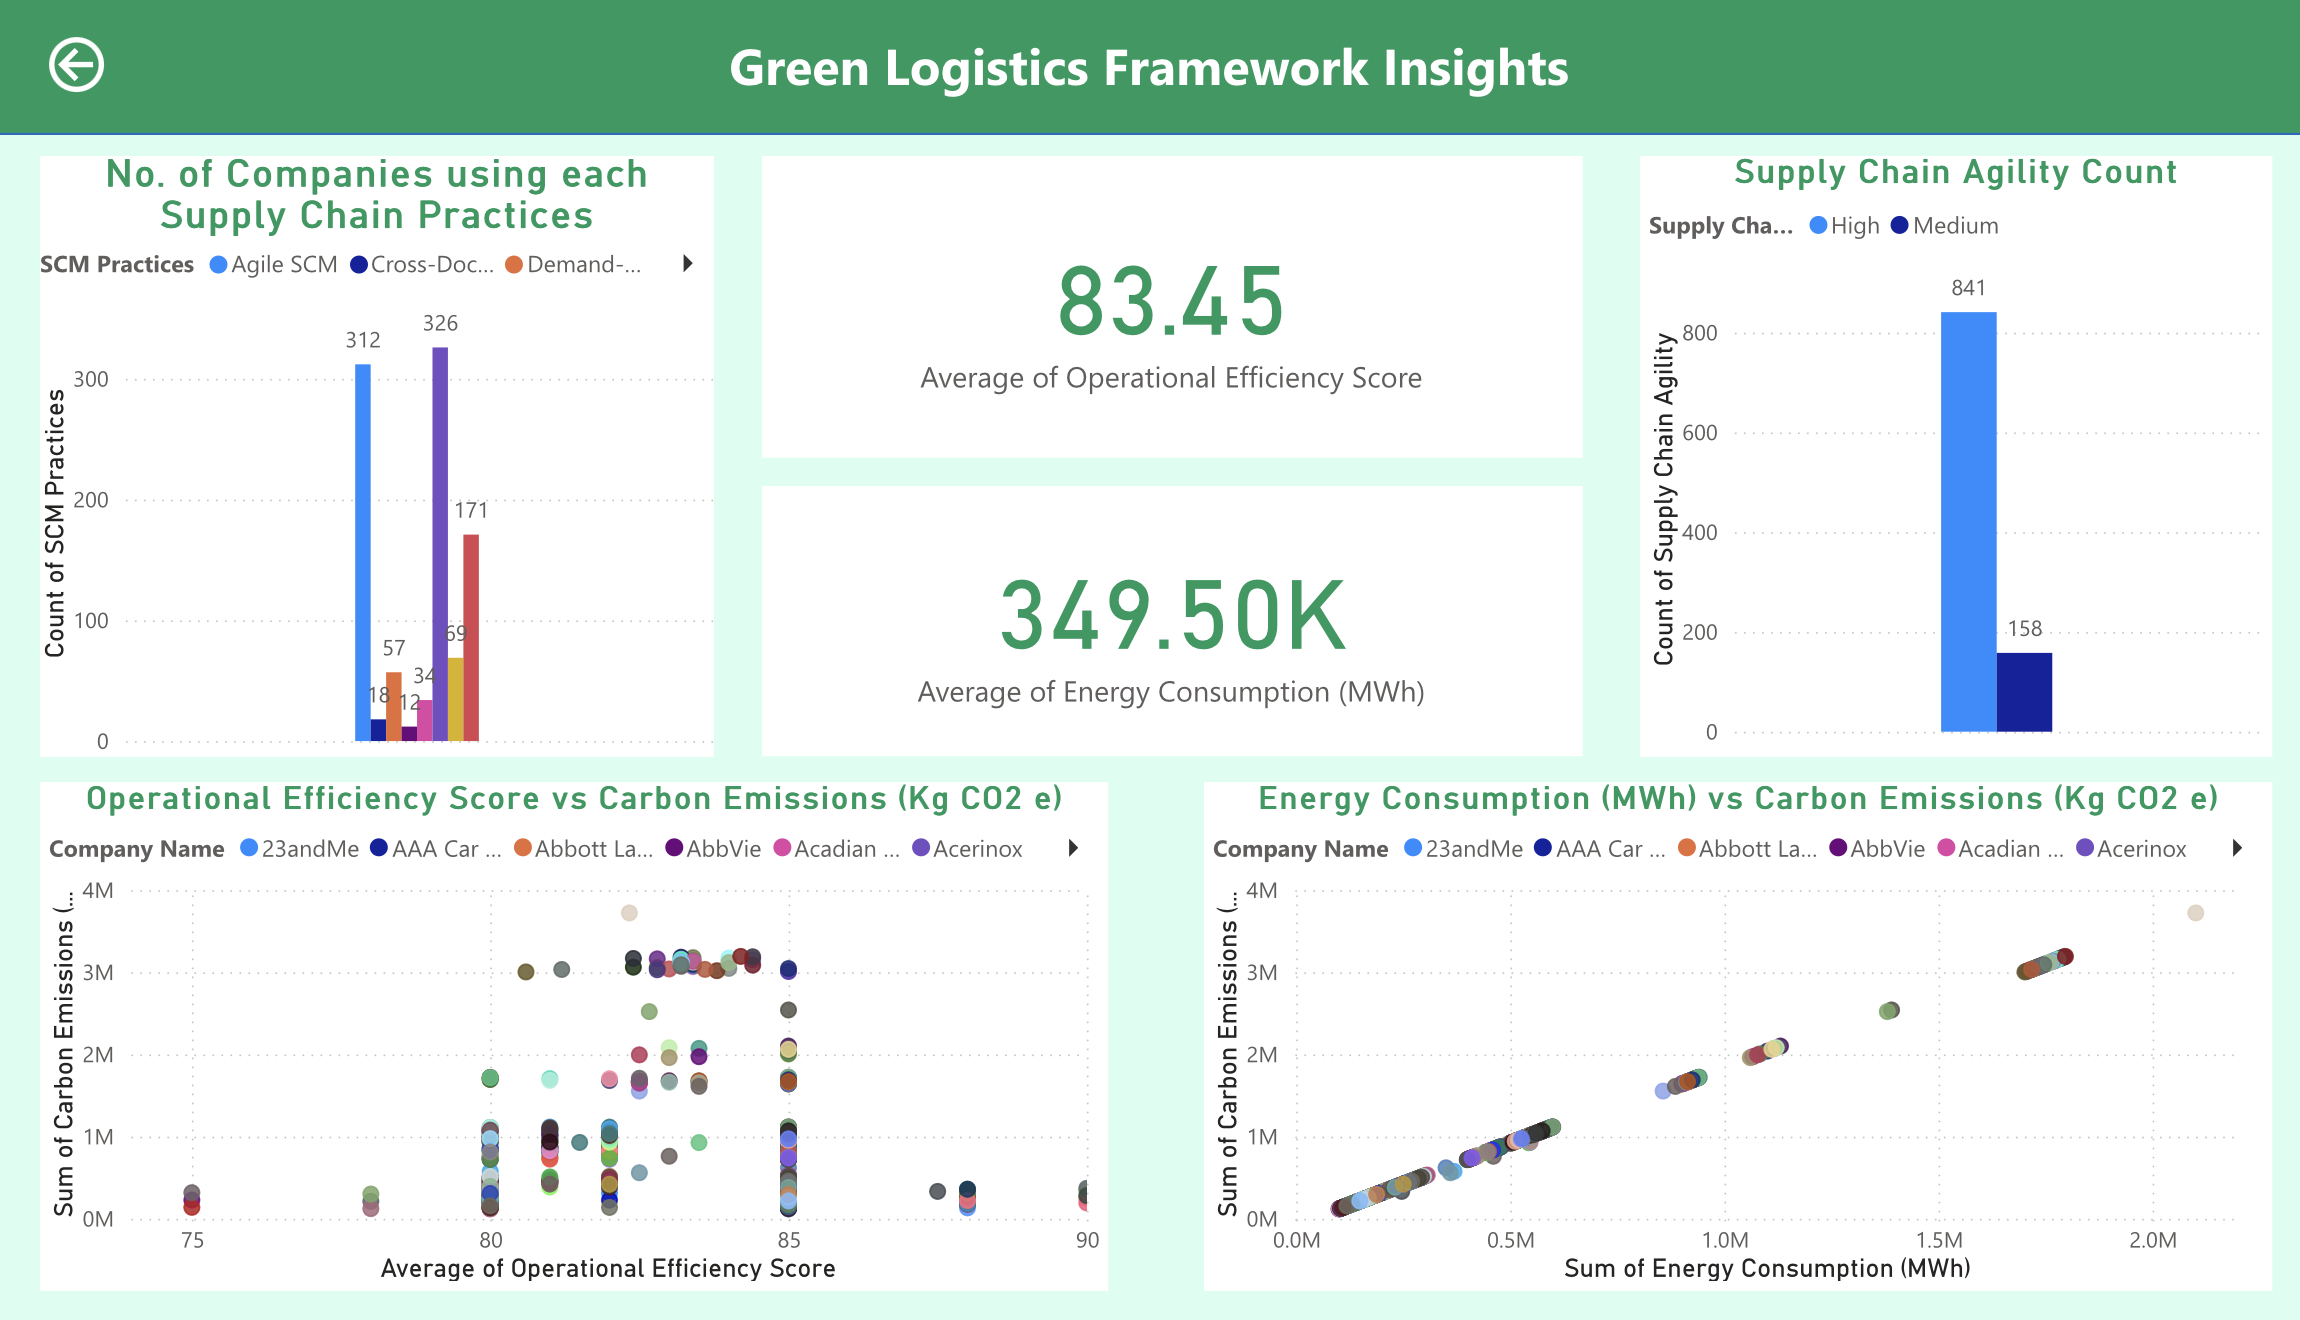

What the dashboard file says about the page in this screenshot:
{"tool":"powerbi","page":{"name":"Green Logistics Insights","canvas":[1280,720],"ordinal":2},"visuals":[{"type":"shape","box":[0,0,1280.2,78.1],"z":0},{"type":"clusteredColumnChart","title":"No. of Companies using each Supply Chain Practices","fields":{"Y":["Sheet1.SCM Practices"],"Series":["Sheet1.SCM Practices"]},"box":[24,90,374.2,333.6],"z":1000},{"type":"scatterChart","title":"Operational Efficiency Score vs Carbon Emissions (Kg CO2 e)","fields":{"X":["Sheet1.Operational Efficiency Score"],"Y":["Sheet1.Carbon Emissions (kg CO2e)"],"Series":["Sheet1.Company Name"]},"box":[24.7,437.7,593.1,282.4],"z":2000},{"type":"scatterChart","title":"Energy Consumption (MWh) vs Carbon Emissions (Kg CO2 e)","fields":{"X":["Sheet1.Energy Consumption (MWh)"],"Y":["Sheet1.Carbon Emissions (kg CO2e)"],"Series":["Sheet1.Company Name"]},"box":[670.7,437.7,593.1,282.4],"z":3000},{"type":"card","fields":{"Values":["Sheet1.Energy Consumption (MWh)"]},"box":[425.4,273.6,455.4,150],"z":4000},{"type":"card","fields":{"Values":["Sheet1.Operational Efficiency Score"]},"box":[425.4,90,455.4,167.7],"z":5000},{"type":"clusteredColumnChart","title":"Supply Chain Agility Count","fields":{"Y":["Sheet1.Supply Chain Agility"],"Series":["Sheet1.Supply Chain Agility"]},"box":[912.5,90,351.2,333.6],"z":6000},{"type":"actionButton","box":[24.7,19.4,100.6,40.6],"z":6001}]}

Visuals, with their boxes in screenshot pixels (x1, y1, x2, y2), scaled from the page's 1280x720 canvas onto the 2300x1320 screenshot:
shape: select_region(0, 0, 2299, 143)
"No. of Companies using each Supply Chain Practices" clusteredColumnChart: select_region(43, 165, 716, 777)
"Operational Efficiency Score vs Carbon Emissions (Kg CO2 e)" scatterChart: select_region(44, 802, 1110, 1319)
"Energy Consumption (MWh) vs Carbon Emissions (Kg CO2 e)" scatterChart: select_region(1205, 802, 2271, 1319)
card - Sheet1.Energy Consumption (MWh): select_region(764, 502, 1583, 777)
card - Sheet1.Operational Efficiency Score: select_region(764, 165, 1583, 472)
"Supply Chain Agility Count" clusteredColumnChart: select_region(1640, 165, 2271, 777)
actionButton: select_region(44, 36, 225, 110)
